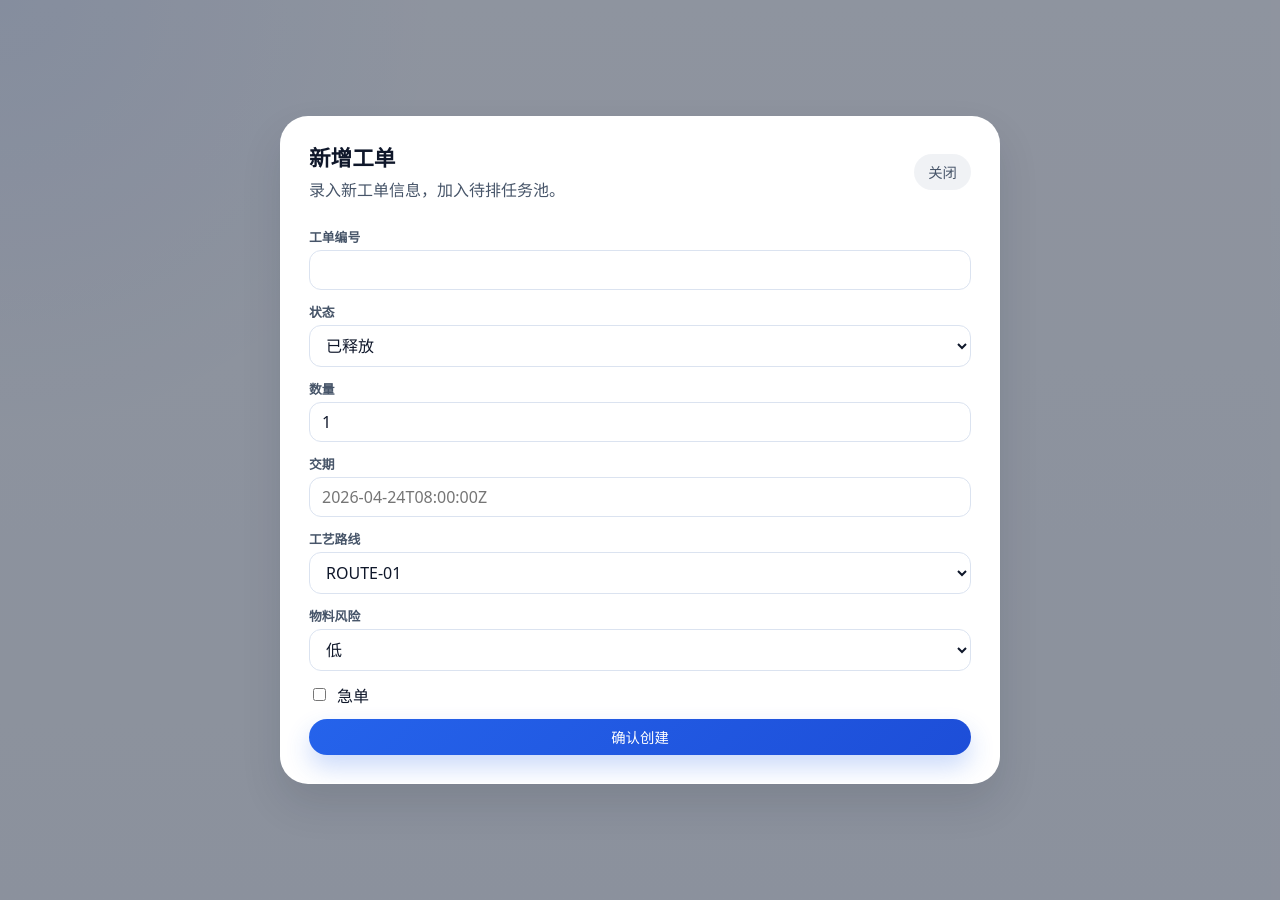
Test: CreateWorkOrderDialog › 空表单提交时显示必填错误
Click the button with test id "submit-create-work-order" at (640, 737), box left=309, top=719, right=971, bottom=755
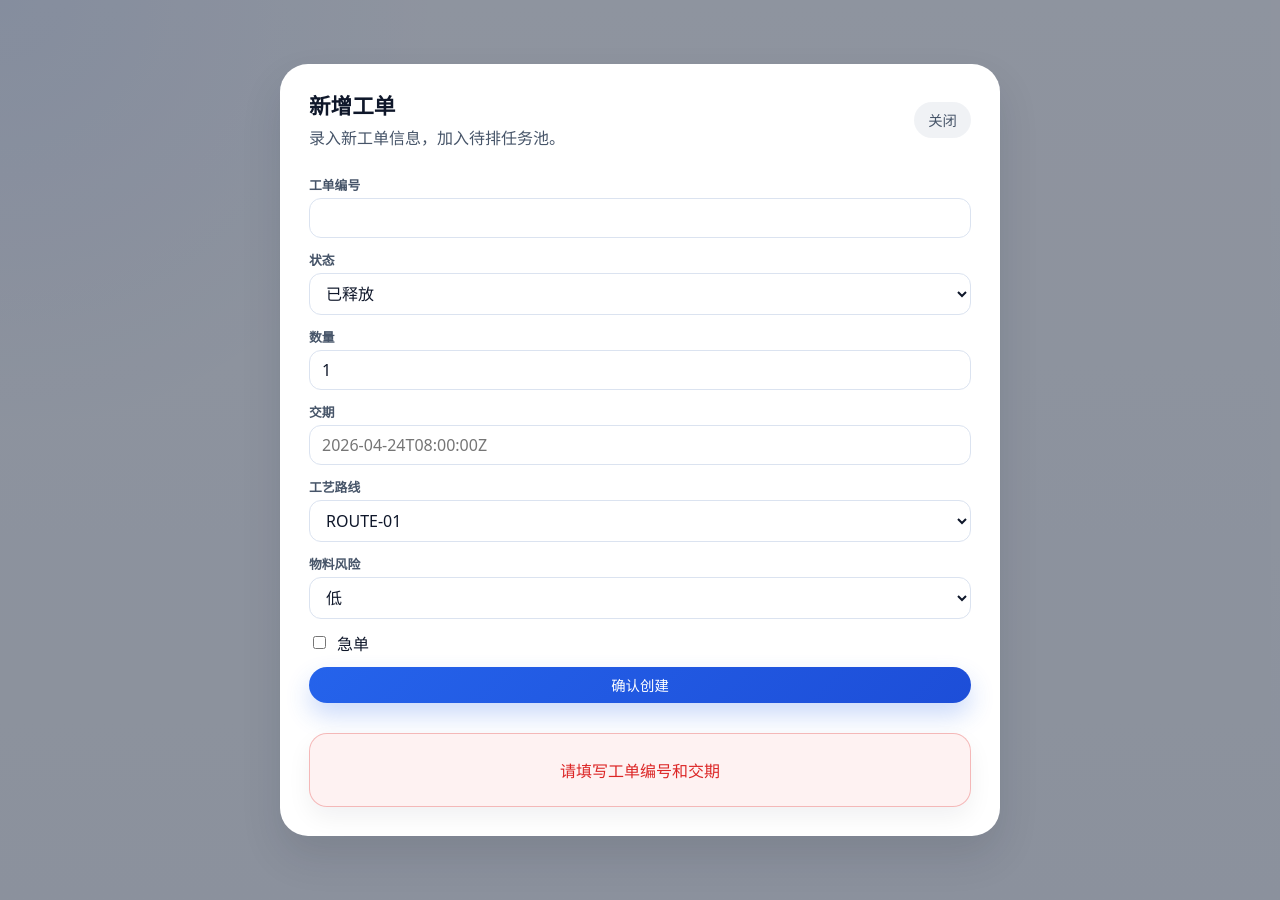
Expected: the text "请填写工单编号和交期" is shown, left=309, top=733, right=971, bottom=807
